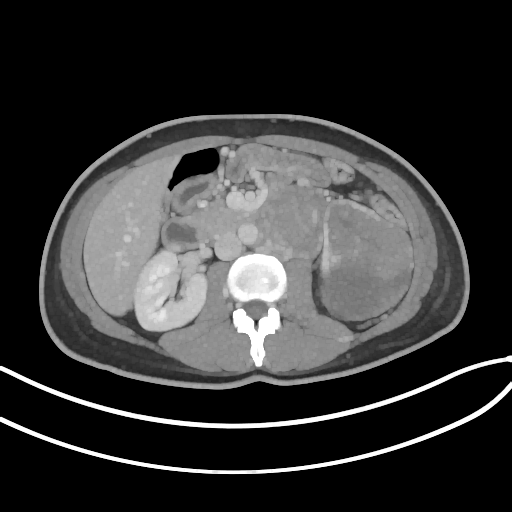Lesion: (328, 203, 412, 315)
